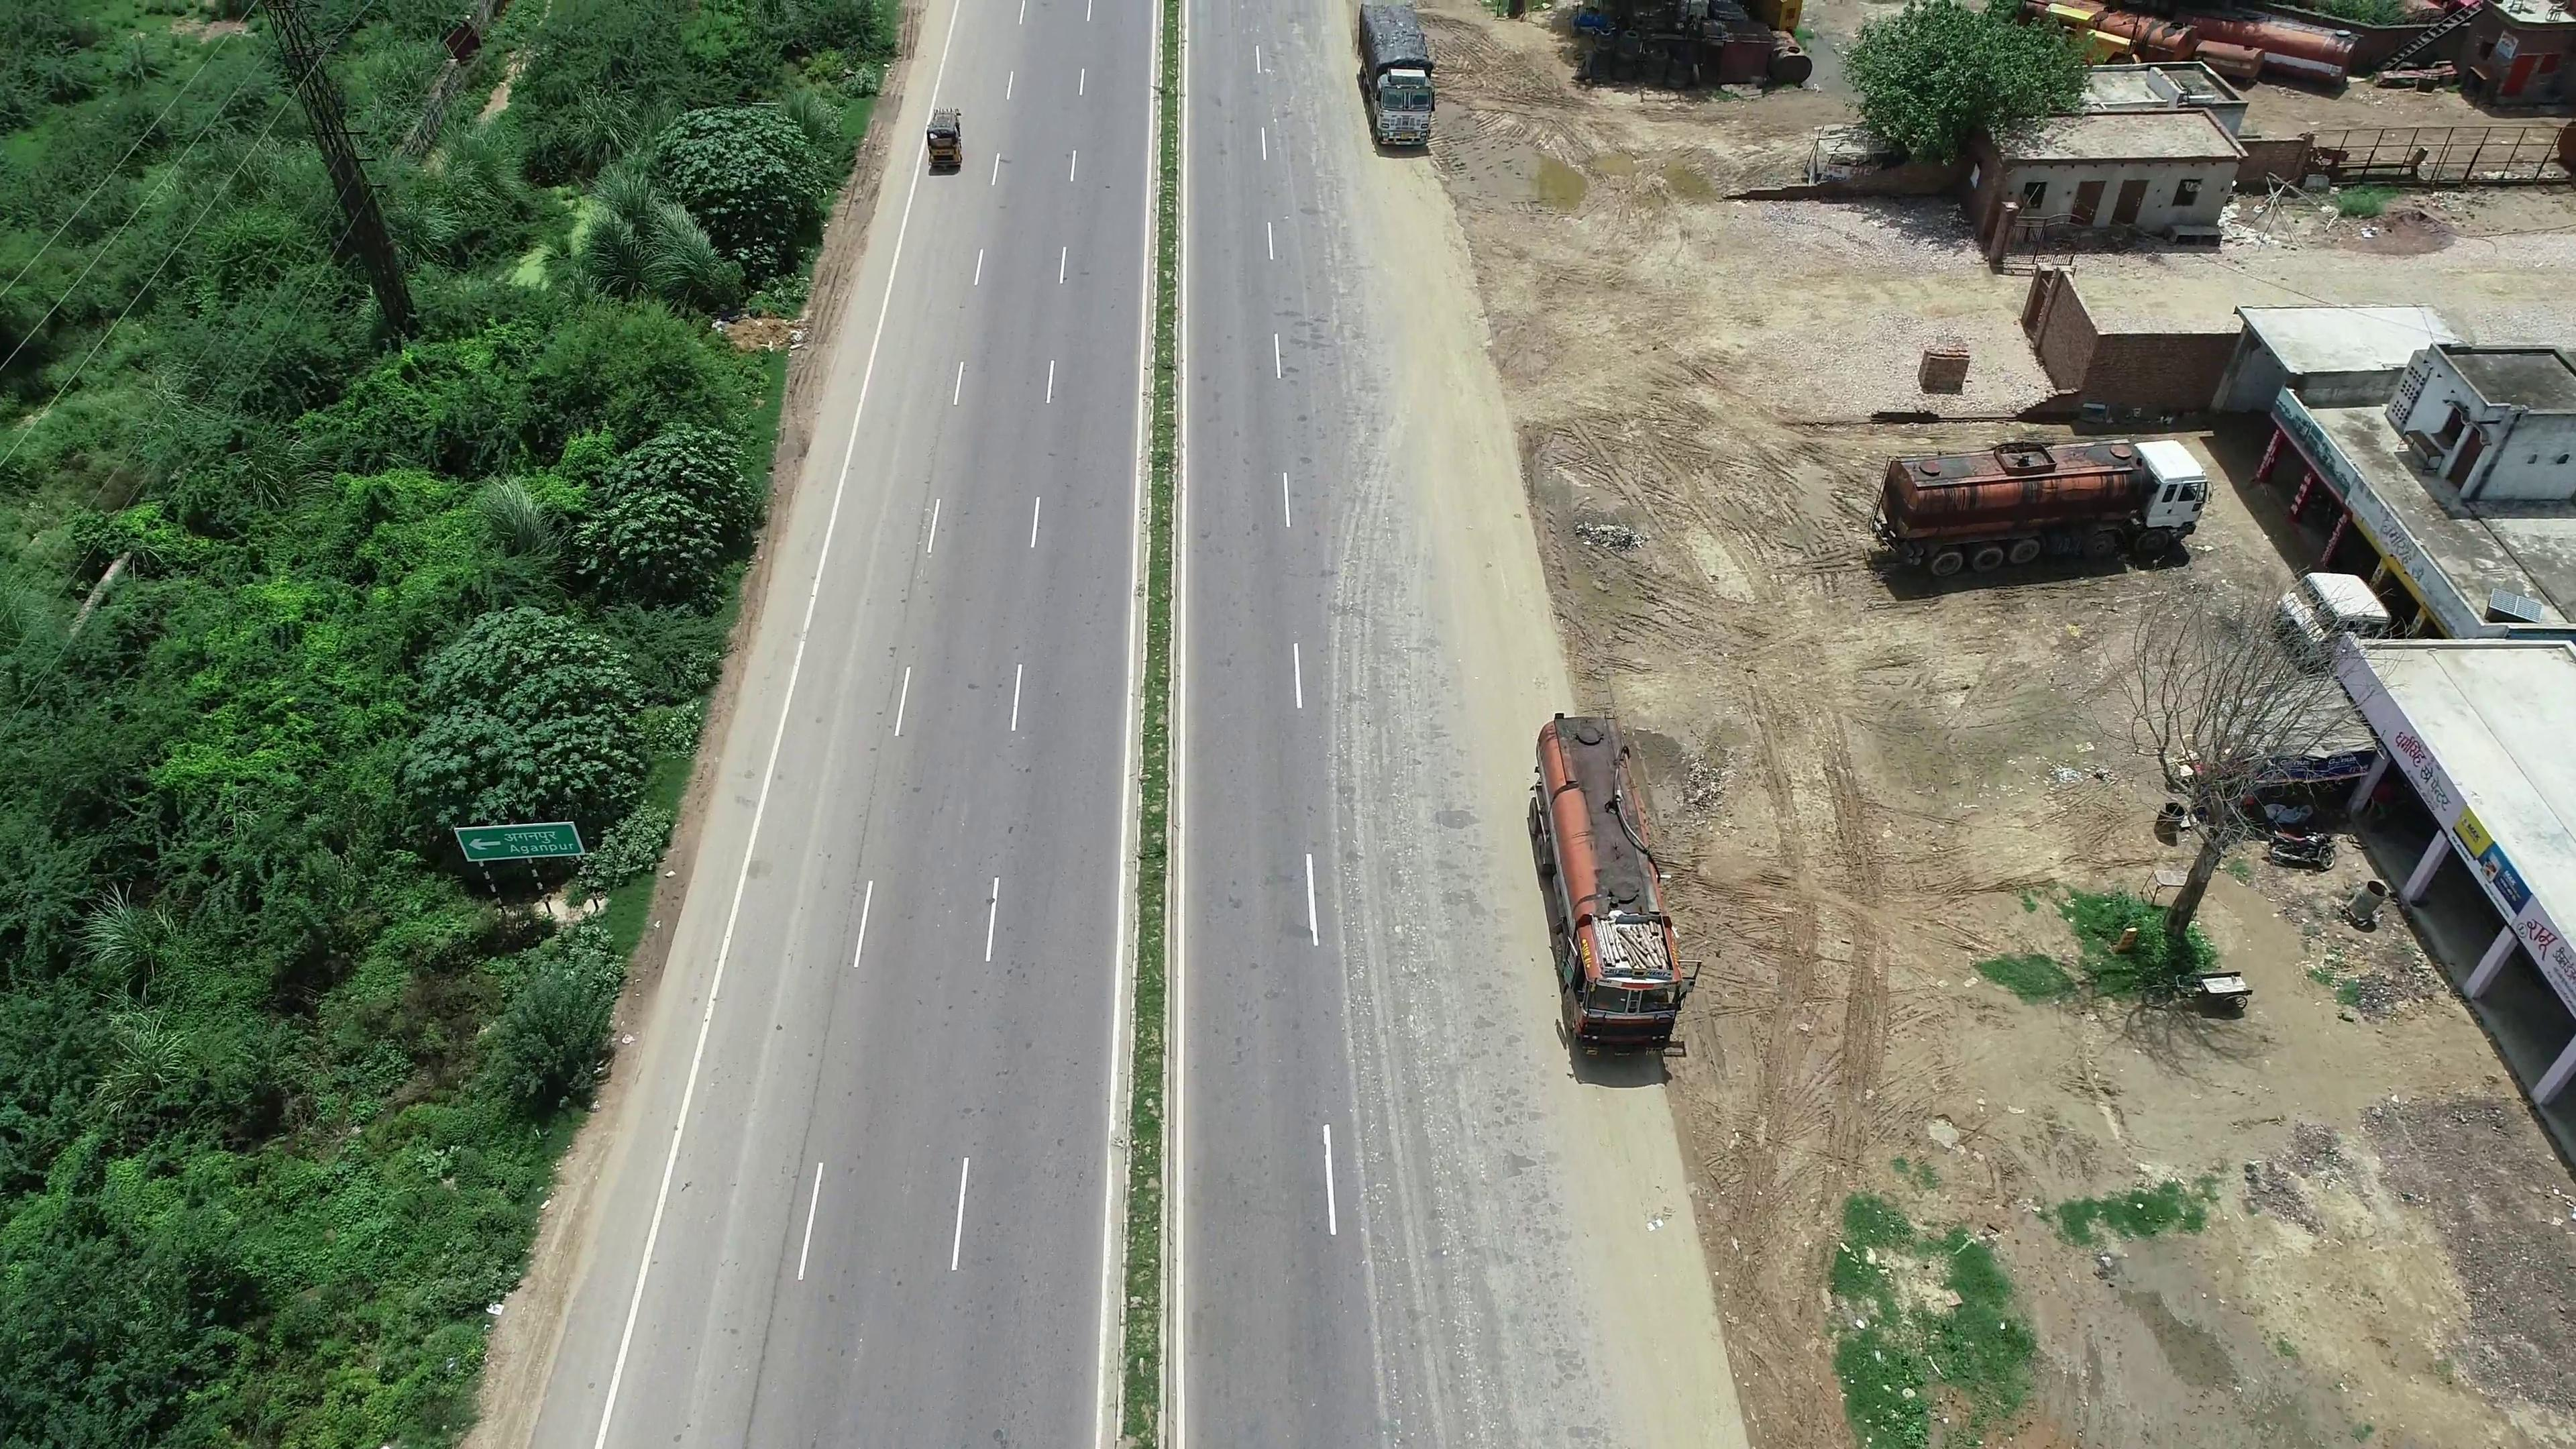Muddy_road: (1378, 226, 1534, 610), (1580, 1120, 1723, 1444)
